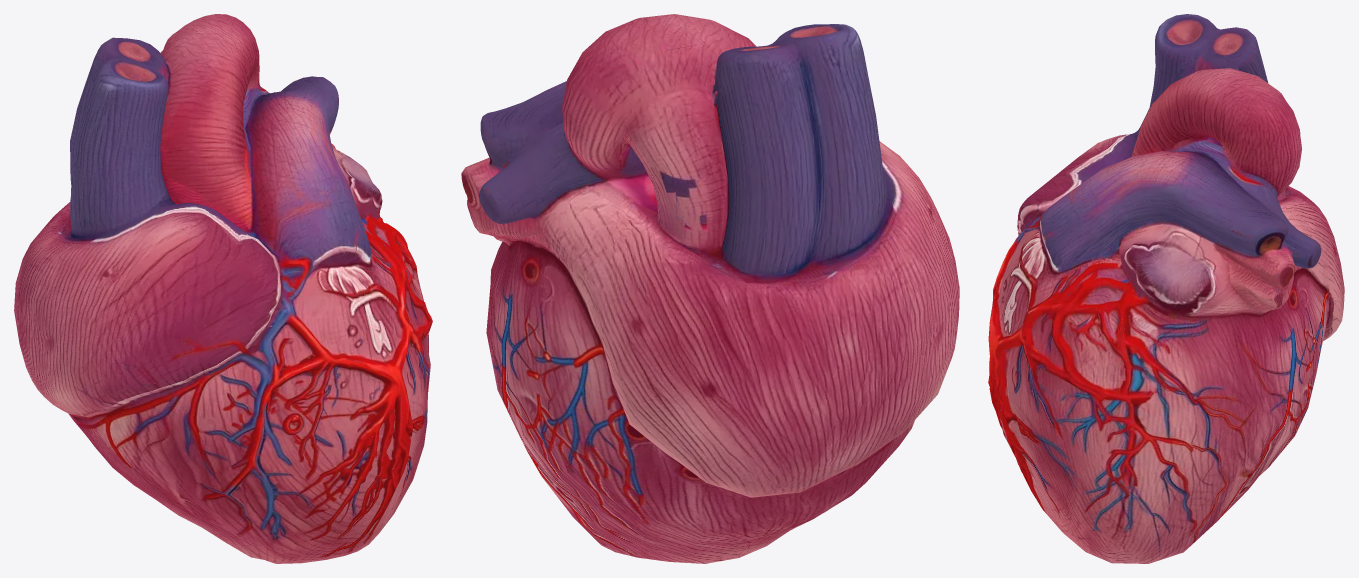
File: heart.glb
3 renders of one model, left to right at view 1: azimuth 30°, elevation 25°; view 2: azimuth 150°, elevation 25°; view 3: azimuth 270°, elevation 25°, orthographic. The views are drawn at different scales.
Parts seen in each view (by area): view 1: Mesh0; view 2: Mesh0; view 3: Mesh0.
Boxes of the visible parts, x1,y1,x2,y2 form: Mesh0: (14, 14, 432, 563); Mesh0: (461, 14, 959, 563); Mesh0: (988, 14, 1344, 563).
Size of the model in its own units: 1.43 by 1.9 by 1.33.
1 material, 1 textured.
